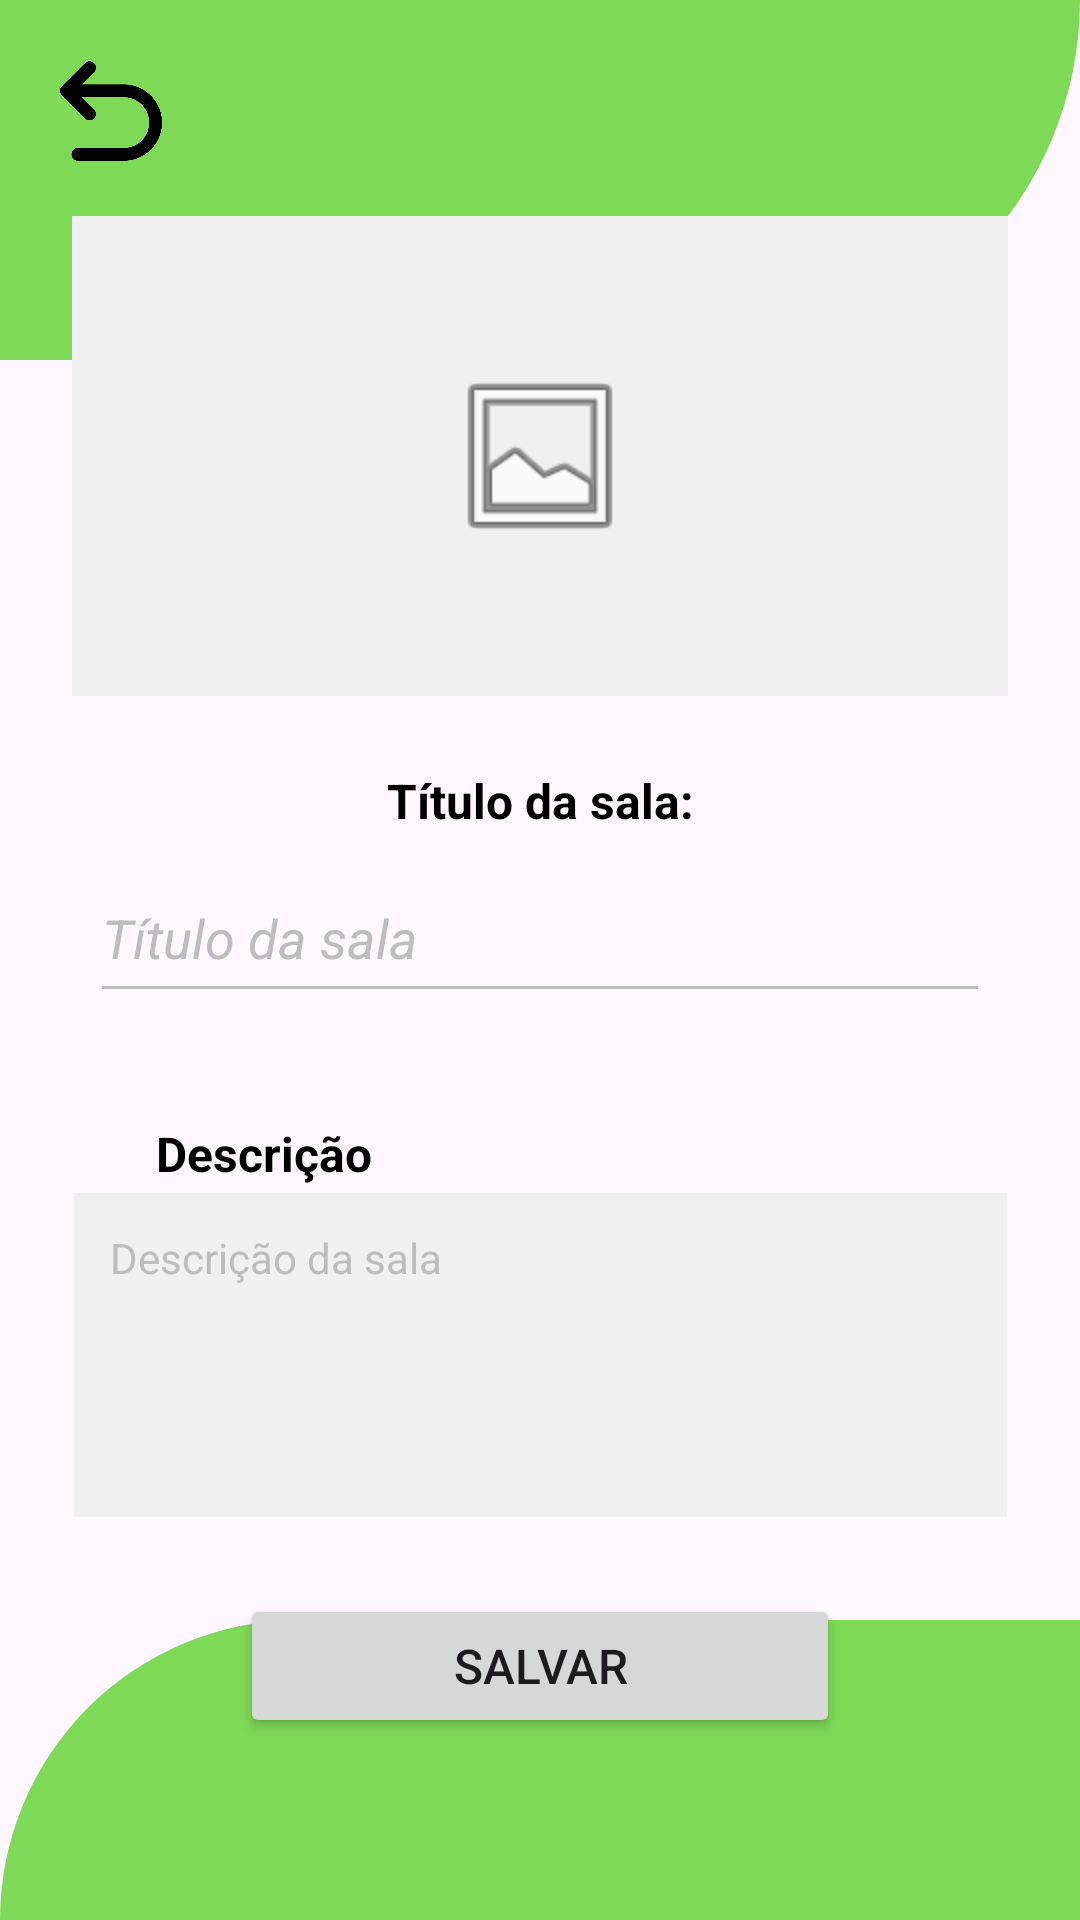

Icon click points for this 1080 x 1920 phone screenshot, format [x,y]:
gallery: [540,456]
imagem voltar: [111,111]
